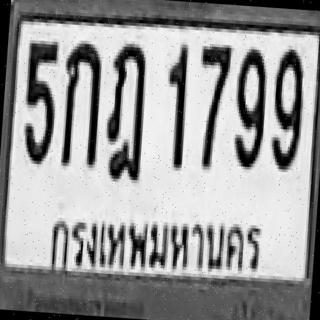A01: (57, 39, 103, 165)
A14: (102, 39, 146, 180)
N01: (160, 40, 189, 168)
N05: (19, 36, 58, 162)
N07: (191, 42, 230, 168)
N09: (268, 45, 305, 170), (231, 45, 267, 167)
P04: (39, 192, 274, 292)
